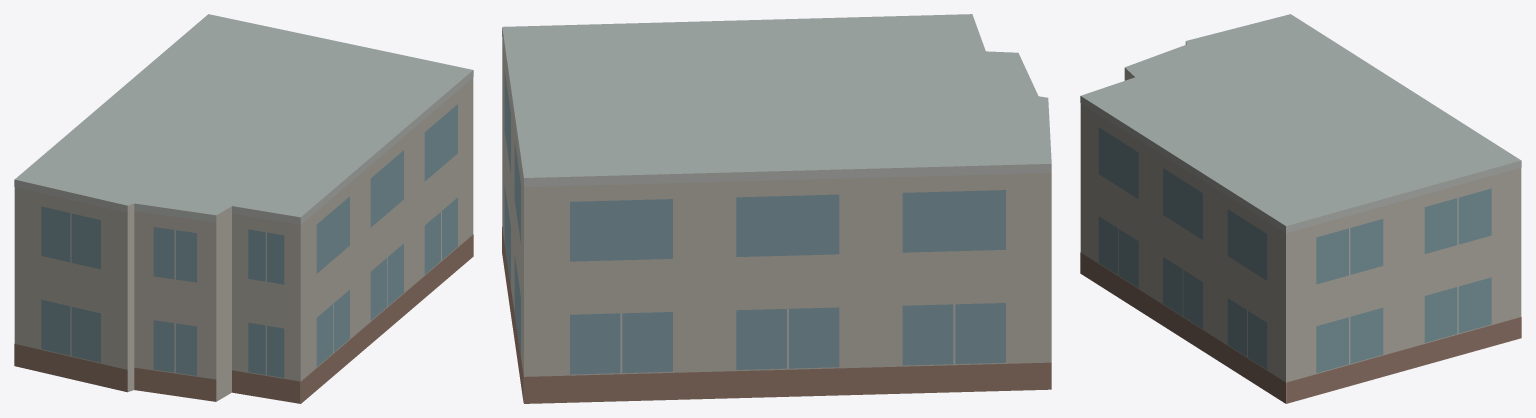
The model's file is survey-upis-32624055.glb.
3 views of the same model, side by side, from view 1: azimuth 30°, elevation 25°; view 2: azimuth 150°, elevation 25°; view 3: azimuth 270°, elevation 25° (orthographic). The views are drawn at different scales.
Parts seen in each view (by area): view 1: survey-upis-32624055.tmp; view 2: survey-upis-32624055.tmp; view 3: survey-upis-32624055.tmp.
Part boxes in pixels (bbox=[...]): survey-upis-32624055.tmp: bbox=[14, 14, 473, 403]; survey-upis-32624055.tmp: bbox=[502, 14, 1051, 403]; survey-upis-32624055.tmp: bbox=[1080, 14, 1521, 403].
Bounding box in the file's own units: 15.63 × 6.1 × 13.73.
